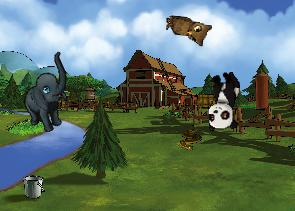elephant: (9, 51, 88, 137)
owl: (163, 15, 212, 47)
panda: (206, 70, 240, 131)
